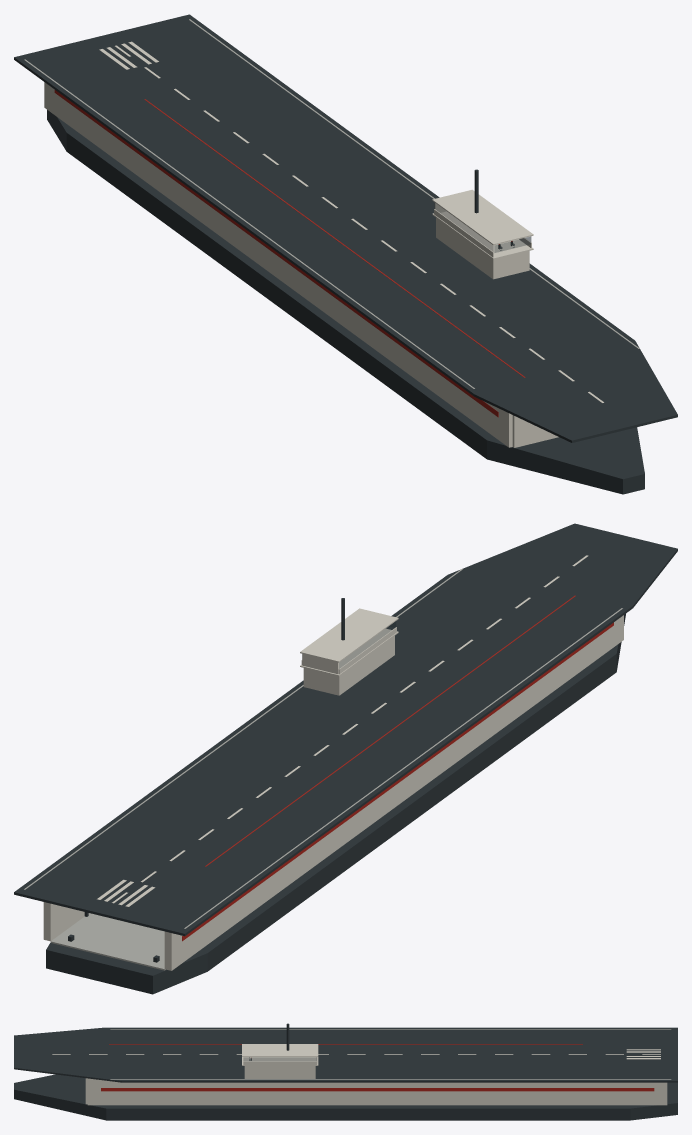
3 renders of one model, top to bottom at view 1: azimuth 30°, elevation 25°; view 2: azimuth 150°, elevation 25°; view 3: azimuth 270°, elevation 25°, orthographic. The views are drawn at different scales.
Visible parts, largest first — view 1: carrier-flight-deck-painted, aircraft-carrier-fleet-machine, aircraft-carrier-fleet-armor, aircraft-carrier-fleet-red; view 2: carrier-flight-deck-painted, aircraft-carrier-fleet-armor, aircraft-carrier-fleet-machine, aircraft-carrier-fleet-edge, aircraft-carrier-fleet-red; view 3: carrier-flight-deck-painted, aircraft-carrier-fleet-armor, aircraft-carrier-fleet-machine, aircraft-carrier-fleet-red, aircraft-carrier-fleet-glass.
Part boxes in pixels (<box>): carrier-flight-deck-painted: <box>14,14,677,442</box>; aircraft-carrier-fleet-machine: <box>47,110,644,494</box>; aircraft-carrier-fleet-armor: <box>44,82,558,447</box>; aircraft-carrier-fleet-red: <box>54,90,498,417</box>; carrier-flight-deck-painted: <box>14,523,677,936</box>; aircraft-carrier-fleet-armor: <box>43,608,623,970</box>; aircraft-carrier-fleet-machine: <box>46,598,625,994</box>; aircraft-carrier-fleet-edge: <box>50,913,165,970</box>; aircraft-carrier-fleet-red: <box>182,622,613,941</box>; carrier-flight-deck-painted: <box>14,1027,677,1082</box>; aircraft-carrier-fleet-armor: <box>85,1044,667,1105</box>; aircraft-carrier-fleet-machine: <box>14,1023,677,1120</box>; aircraft-carrier-fleet-red: <box>101,1088,654,1091</box>; aircraft-carrier-fleet-glass: <box>243,1057,316,1060</box>.
Size of the model in its own units: 253 by 205 by 1326.
